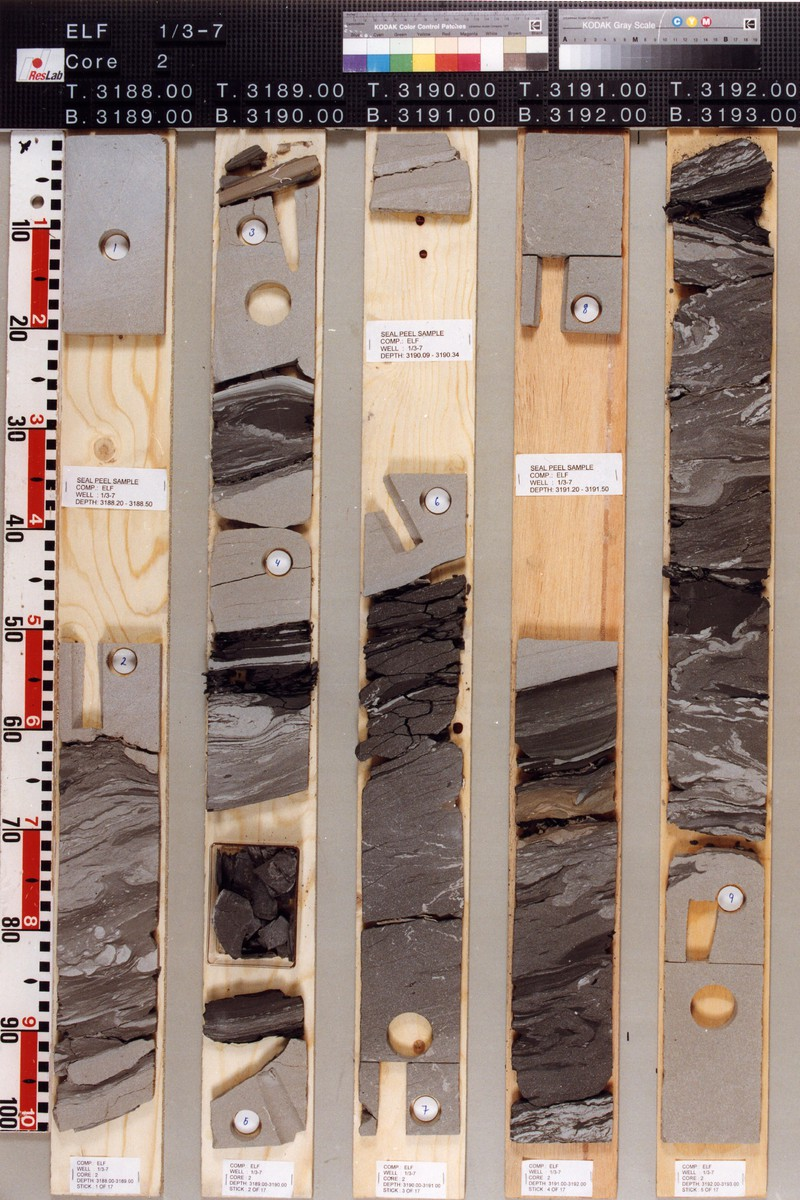core: (204, 142, 326, 1152), (661, 137, 776, 1146), (358, 471, 467, 1137), (510, 637, 618, 1146), (55, 641, 158, 1136), (518, 131, 630, 341), (61, 132, 170, 340), (367, 131, 477, 221)
